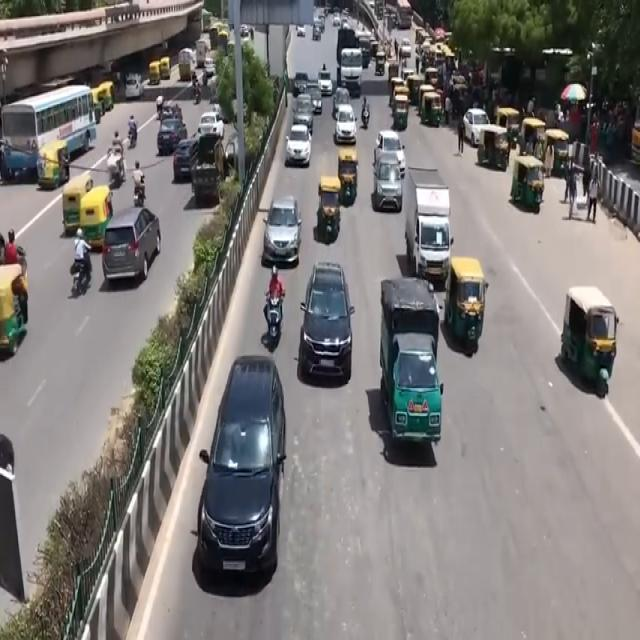BUS: (4, 87, 98, 191)
MOTORCYCLE: (263, 298, 285, 353)
TRUCK: (381, 274, 443, 460), (407, 170, 453, 287)
